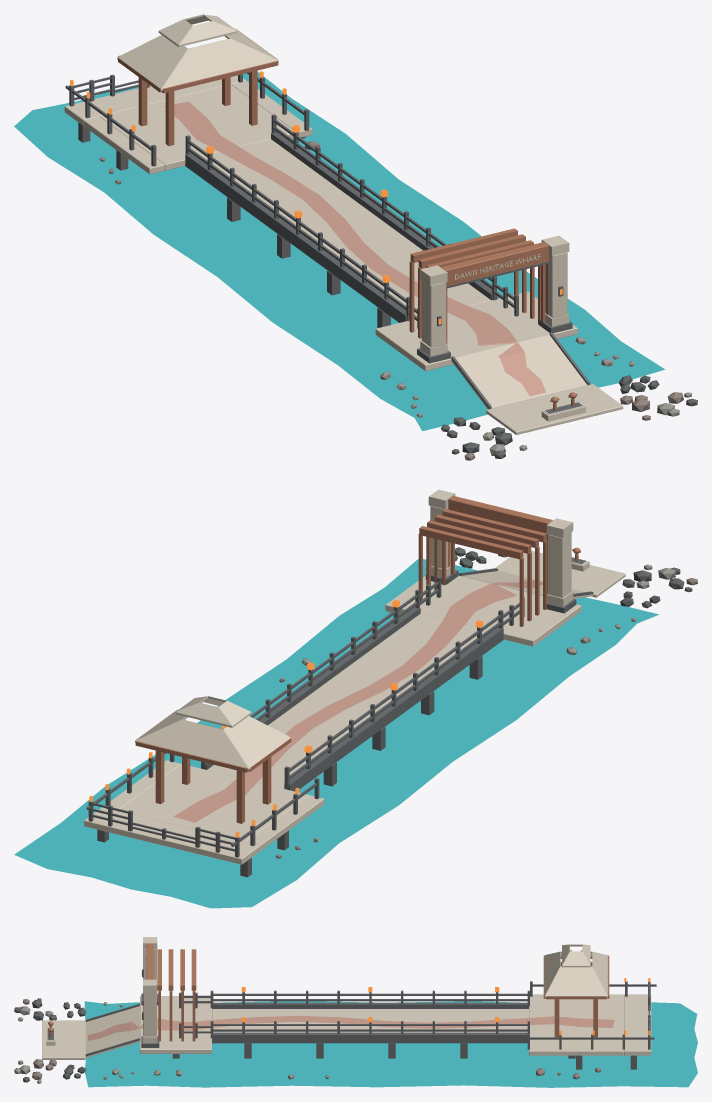
Rendered from dawis-heritage-wharf-mobile.glb.
3 views of the same model, one above another, from view 1: azimuth 30°, elevation 25°; view 2: azimuth 150°, elevation 25°; view 3: azimuth 270°, elevation 25° (orthographic). The views are drawn at different scales.
Visible parts, largest first — view 1: DHW_Export_WarmBeigeConcrete, DHW_Export_Water_Turquoise, DHW_Export_Temp_DarkConcrete, DHW_Export_ReddishBrownWood, DHW_Export_Terracotta_Path, DHW_Export_Rock_Dark, DHW_Export_Rock_Gray, DHW_Export_Rock_BrownGray; view 2: DHW_Export_Water_Turquoise, DHW_Export_WarmBeigeConcrete, DHW_Export_Temp_DarkConcrete, DHW_Export_ReddishBrownWood, DHW_Export_Terracotta_Path, DHW_Export_Rock_Dark; view 3: DHW_Export_Water_Turquoise, DHW_Export_WarmBeigeConcrete, DHW_Export_Temp_DarkConcrete, DHW_Export_Terracotta_Path, DHW_Export_ReddishBrownWood, DHW_Export_Rock_Dark, DHW_Export_Rock_Gray, DHW_Export_Rock_BrownGray, DHW_Export_LampPanelEmission.
Boxes of the visible parts, bbox=[...] form: DHW_Export_WarmBeigeConcrete: bbox=[64, 14, 623, 434]; DHW_Export_Water_Turquoise: bbox=[14, 72, 664, 431]; DHW_Export_Temp_DarkConcrete: bbox=[65, 72, 589, 413]; DHW_Export_ReddishBrownWood: bbox=[118, 29, 577, 410]; DHW_Export_Terracotta_Path: bbox=[164, 101, 545, 396]; DHW_Export_Rock_Dark: bbox=[441, 375, 697, 458]; DHW_Export_Rock_Gray: bbox=[380, 337, 691, 455]; DHW_Export_Rock_BrownGray: bbox=[99, 136, 683, 460]; DHW_Export_Water_Turquoise: bbox=[14, 559, 658, 908]; DHW_Export_WarmBeigeConcrete: bbox=[84, 489, 625, 864]; DHW_Export_Temp_DarkConcrete: bbox=[86, 557, 593, 877]; DHW_Export_ReddishBrownWood: bbox=[135, 495, 580, 823]; DHW_Export_Terracotta_Path: bbox=[173, 580, 542, 822]; DHW_Export_Rock_Dark: bbox=[455, 547, 692, 608]; DHW_Export_Water_Turquoise: bbox=[84, 1001, 697, 1087]; DHW_Export_WarmBeigeConcrete: bbox=[42, 937, 651, 1059]; DHW_Export_Temp_DarkConcrete: bbox=[47, 955, 656, 1069]; DHW_Export_Terracotta_Path: bbox=[88, 1015, 614, 1040]; DHW_Export_ReddishBrownWood: bbox=[48, 943, 609, 1041]; DHW_Export_Rock_Dark: bbox=[14, 998, 85, 1082]; DHW_Export_Rock_Gray: bbox=[14, 1002, 294, 1083]; DHW_Export_Rock_BrownGray: bbox=[18, 999, 600, 1079]; DHW_Export_LampPanelEmission: bbox=[141, 971, 650, 1035].
Bounding box in the file's own units: 14.35 × 7.42 × 47.51.
